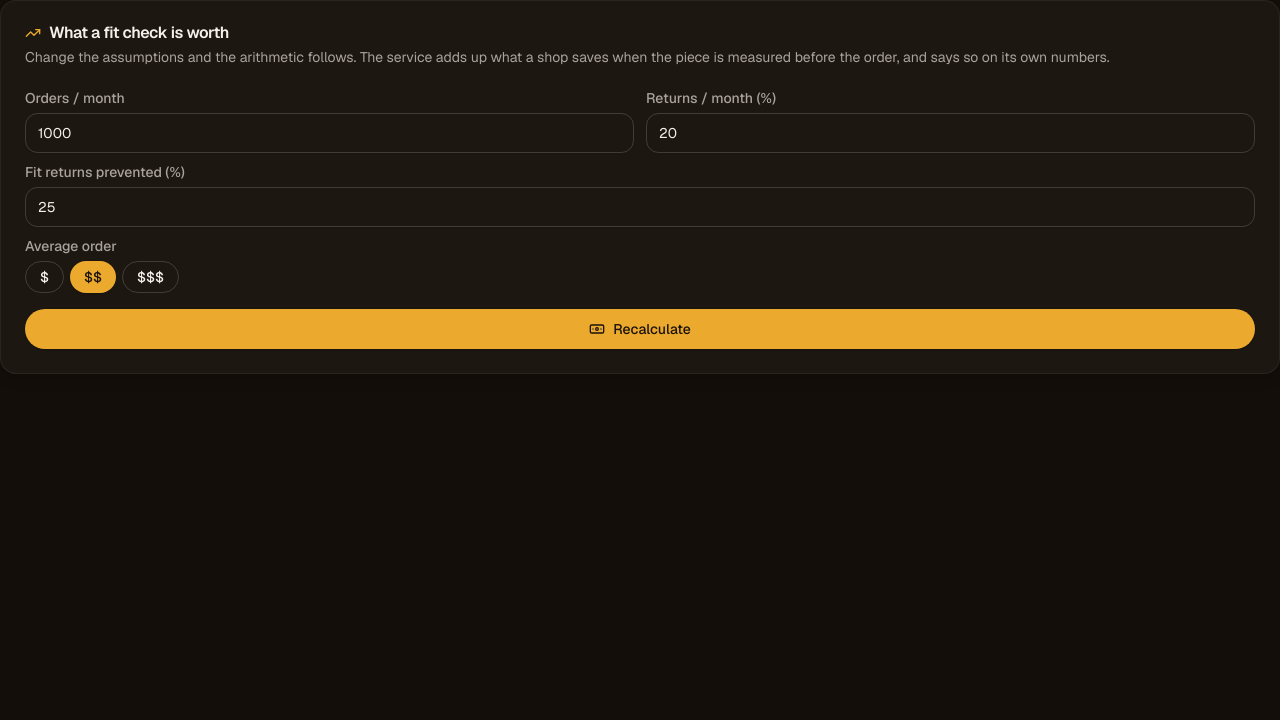
ValuePanel › asks the service for the number instead of doing the maths in the browser
Replace the text in the field labelled "Orders / month" with "2000": [330, 133] box [25, 113, 634, 153]
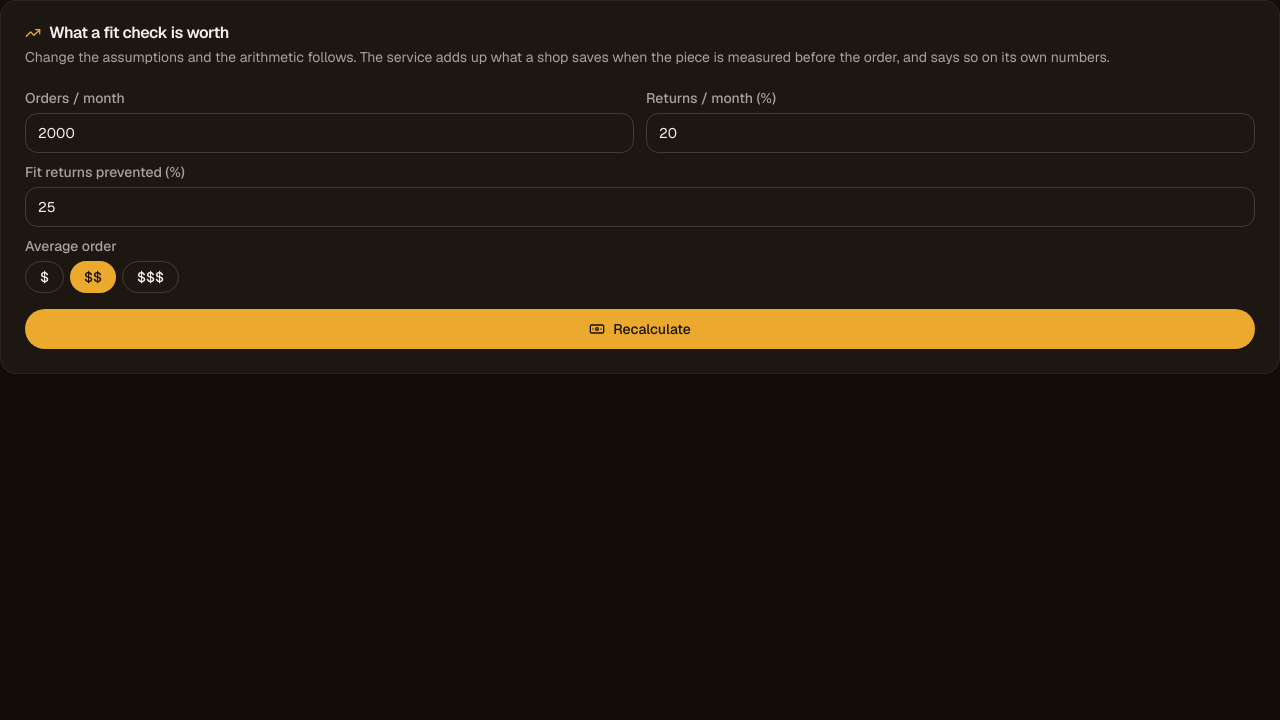
Replace the text in the field labelled "Returns / month (%)" with "30": [950, 133] box [646, 113, 1255, 153]
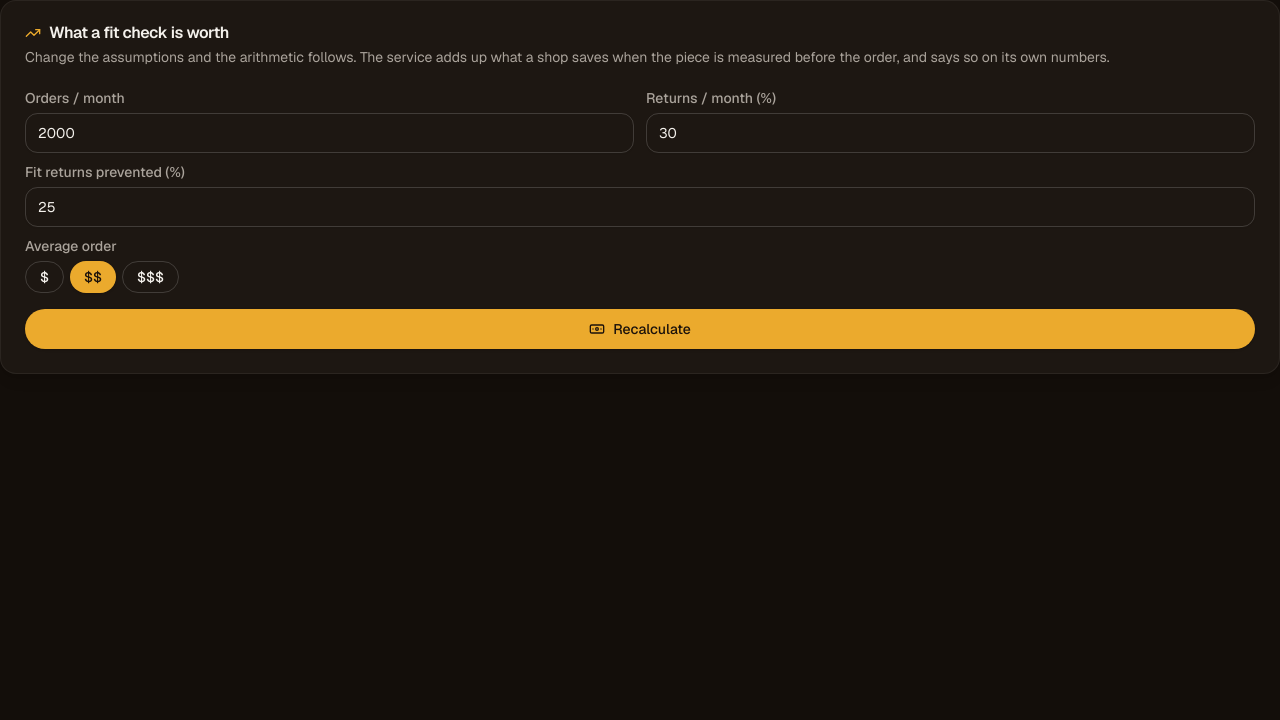
Click the button "$$$": [150, 277] box [122, 261, 179, 293]
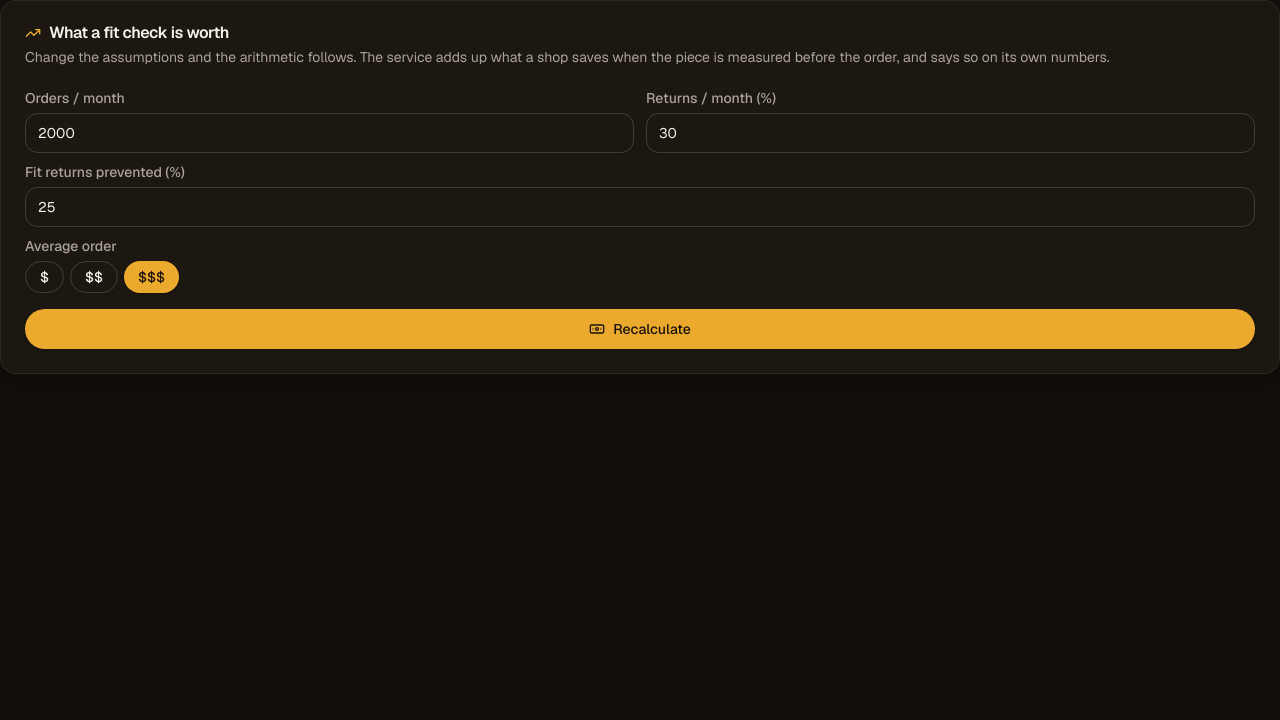
Click the button "Recalculate": [640, 329] box [25, 309, 1255, 349]
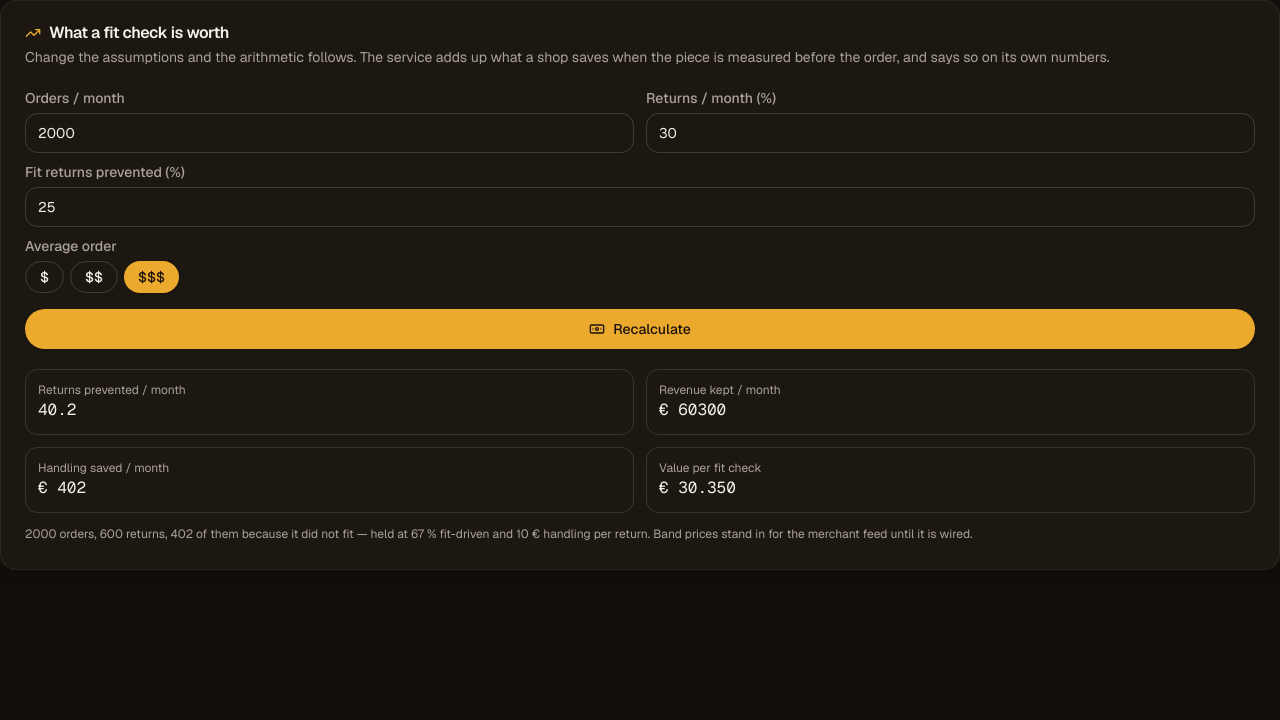
Now the text "€ 60300" is shown, box [659, 399, 726, 420]
Now the text "40.2" is shown, box [38, 399, 76, 420]
Now the text "67 % fit-driven" is shown, box [25, 526, 972, 542]
